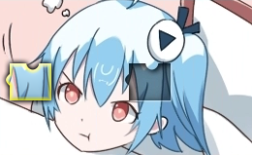gap: (125, 63, 170, 100)
